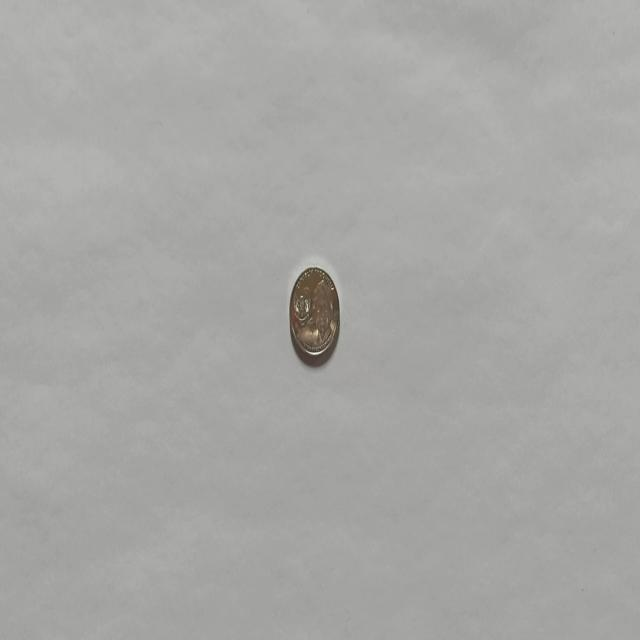dua ratus rupiah: (288, 264, 340, 361)
